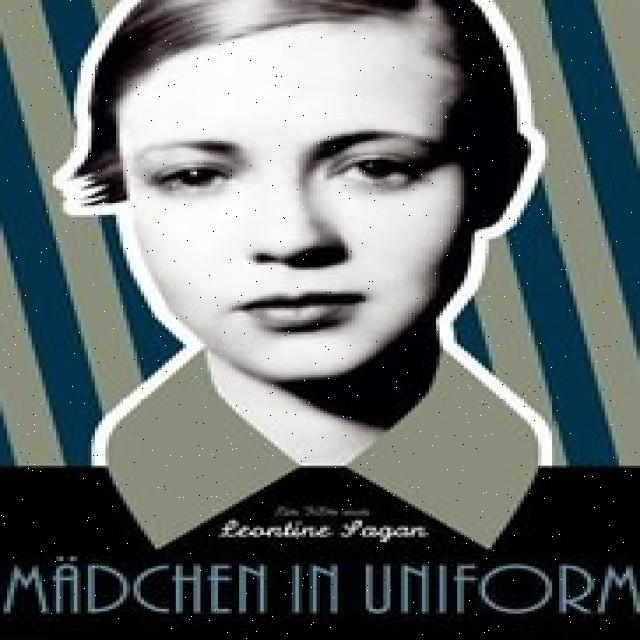movie-judul: (2, 497, 640, 626)
picture: (0, 2, 640, 551)
